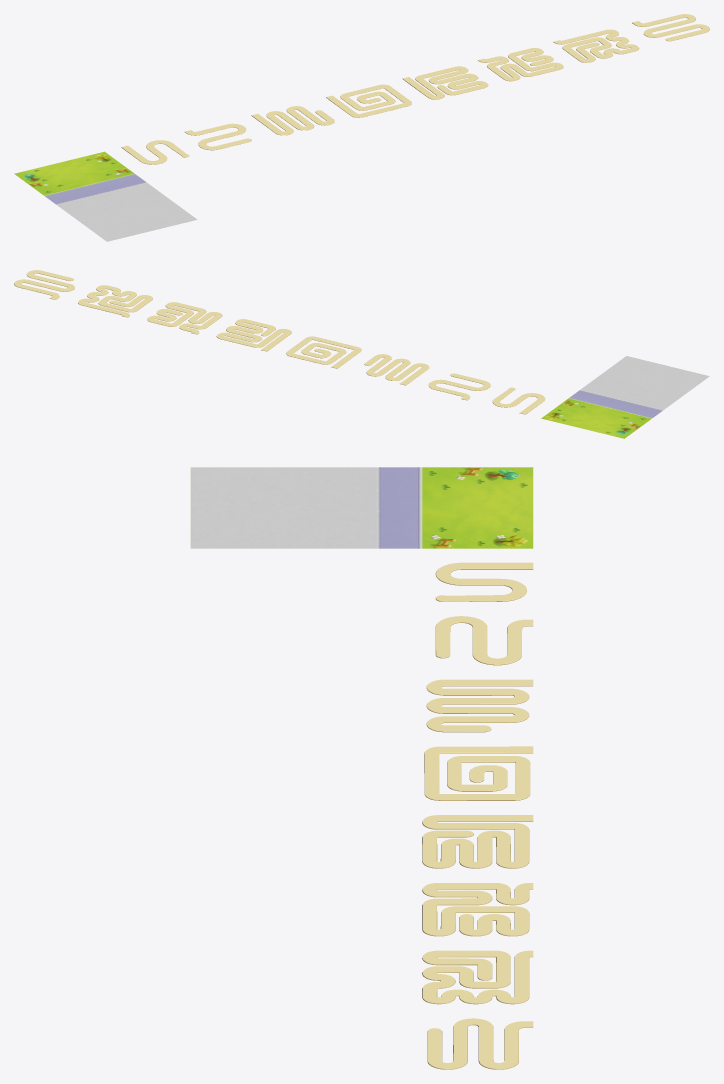
File: Level 1 to 8.fbx
The picture shows the model from 3 angles, top to bottom: view 1: azimuth 30°, elevation 25°; view 2: azimuth 150°, elevation 25°; view 3: azimuth 270°, elevation 25°; orthographic projection. The views are drawn at different scales.
Visible parts, largest first — view 1: Game_Background_Grass_NoPath, Dragon_Path_L5, Dragon_Path_L6, Dragon_Path_L7, Dragon_Path_L4, Dragon_Path_L3, Dragon_Path_L8, Dragon_Path_L2, Dragon_Path_L1; view 2: Game_Background_Grass_NoPath, Dragon_Path_L5, Dragon_Path_L6, Dragon_Path_L7, Dragon_Path_L4, Dragon_Path_L3, Dragon_Path_L8, Dragon_Path_L2, Dragon_Path_L1; view 3: Game_Background_Grass_NoPath, Dragon_Path_L5, Dragon_Path_L6, Dragon_Path_L7, Dragon_Path_L4, Dragon_Path_L3, Dragon_Path_L8, Dragon_Path_L2, Dragon_Path_L1.
Part boxes in pixels (bbox=[...]): Game_Background_Grass_NoPath: bbox=[14, 151, 197, 241]; Dragon_Path_L5: bbox=[402, 66, 488, 99]; Dragon_Path_L6: bbox=[478, 48, 563, 81]; Dragon_Path_L7: bbox=[553, 29, 639, 62]; Dragon_Path_L4: bbox=[326, 84, 411, 117]; Dragon_Path_L3: bbox=[251, 106, 334, 135]; Dragon_Path_L8: bbox=[632, 14, 709, 41]; Dragon_Path_L2: bbox=[185, 123, 251, 150]; Dragon_Path_L1: bbox=[121, 140, 189, 164]; Game_Background_Grass_NoPath: bbox=[541, 356, 709, 438]; Dragon_Path_L5: bbox=[216, 319, 291, 351]; Dragon_Path_L6: bbox=[147, 302, 222, 334]; Dragon_Path_L7: bbox=[78, 285, 152, 317]; Dragon_Path_L4: bbox=[286, 336, 361, 368]; Dragon_Path_L3: bbox=[364, 354, 429, 385]; Dragon_Path_L8: bbox=[14, 270, 74, 299]; Dragon_Path_L2: bbox=[428, 373, 490, 400]; Dragon_Path_L1: bbox=[492, 387, 545, 414]; Game_Background_Grass_NoPath: bbox=[190, 467, 533, 548]; Dragon_Path_L5: bbox=[422, 815, 533, 868]; Dragon_Path_L6: bbox=[422, 883, 533, 936]; Dragon_Path_L7: bbox=[422, 950, 533, 1004]; Dragon_Path_L4: bbox=[424, 746, 533, 800]; Dragon_Path_L3: bbox=[426, 679, 533, 732]; Dragon_Path_L8: bbox=[427, 1018, 533, 1069]; Dragon_Path_L2: bbox=[435, 616, 533, 665]; Dragon_Path_L1: bbox=[435, 562, 533, 601].
Bounding box in the file's own units: 16283 × 10.8 × 3909.
2 materials, 2 textured.
